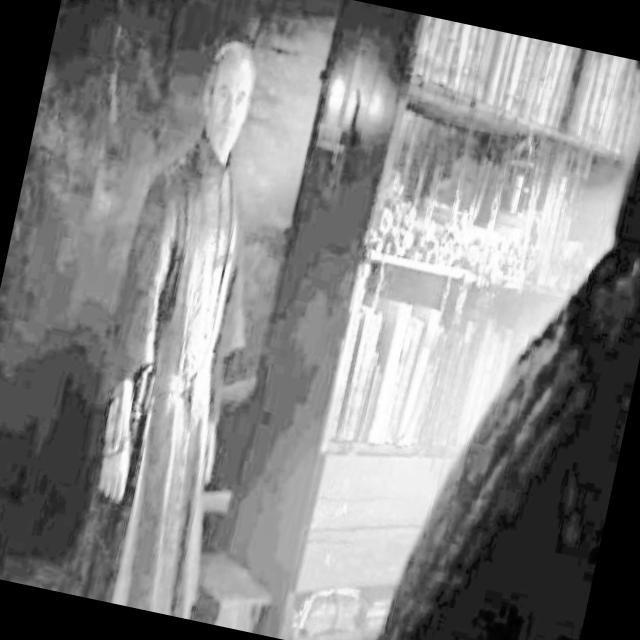Person: (49, 16, 310, 619)
